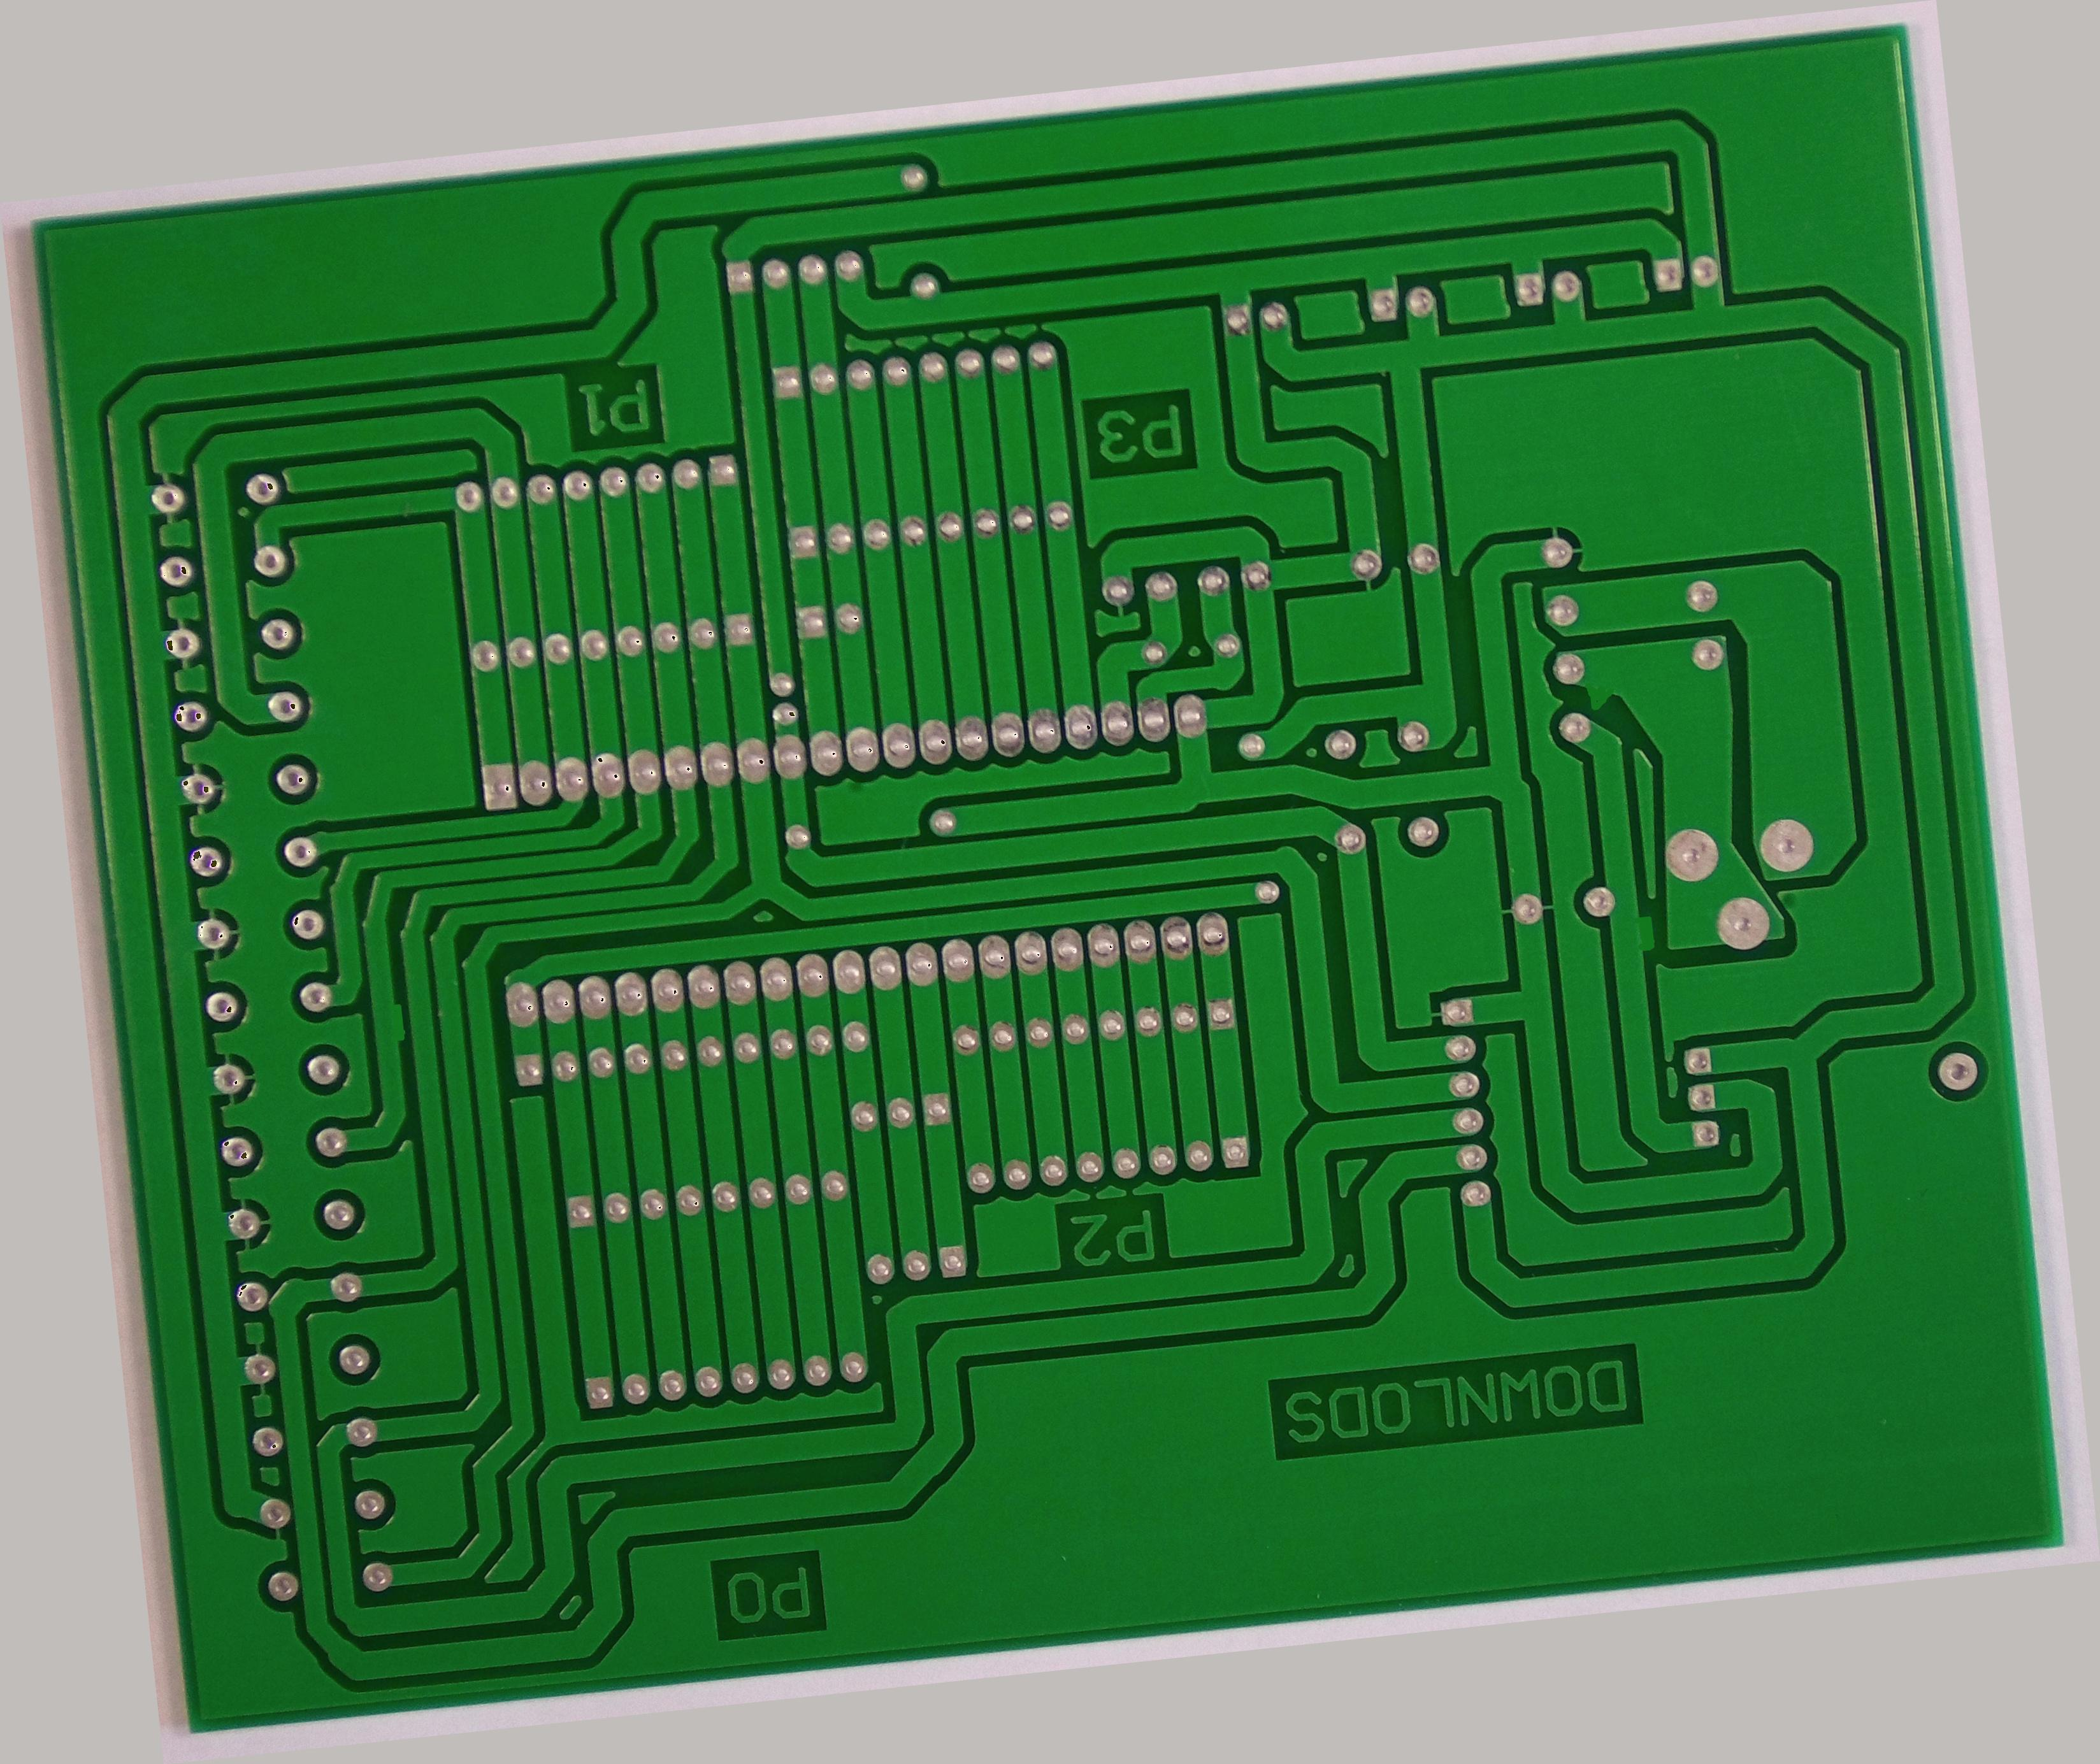spur: (374, 989, 415, 1055), (1622, 905, 1664, 966), (1577, 674, 1629, 717)
